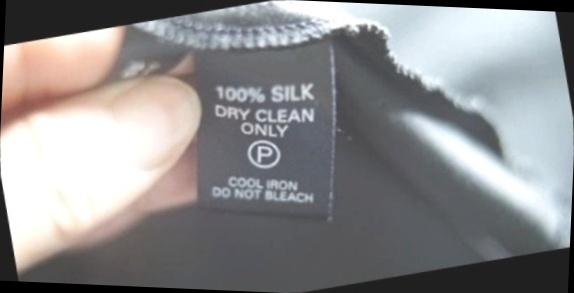dry_clean_any_solvent_except_trichloroethylene: (241, 131, 289, 176)
